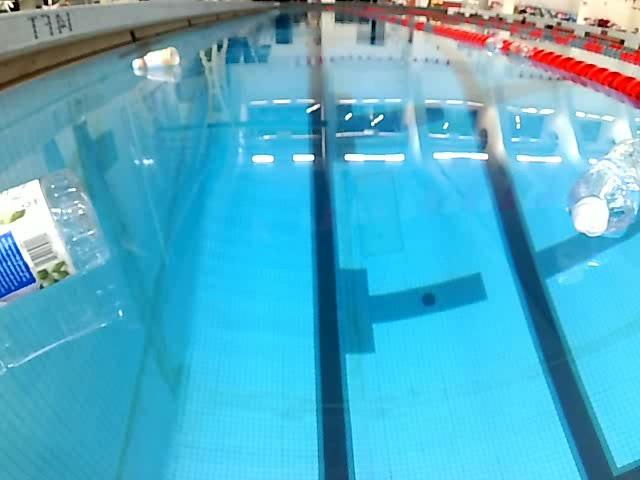Bottle: (0, 164, 117, 311), (562, 134, 640, 242), (126, 44, 182, 76)
